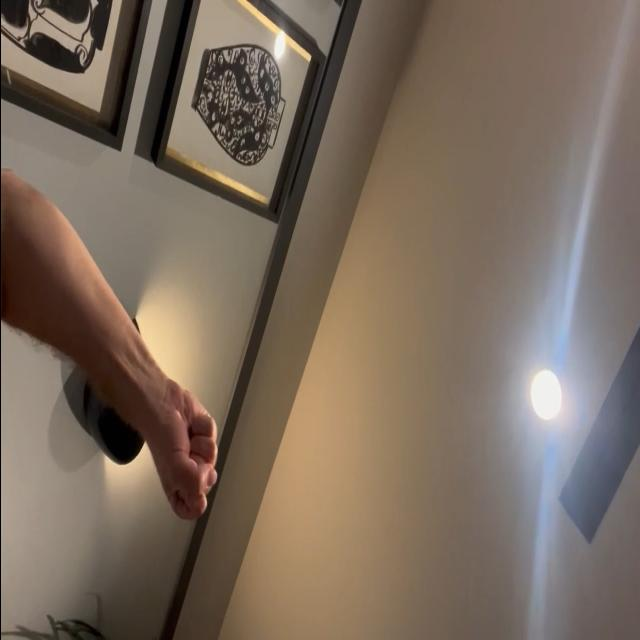Rock: (149, 376, 219, 524)
